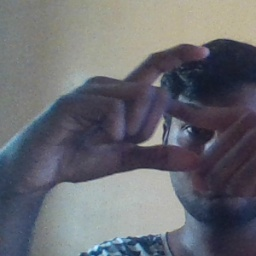E: (112, 35, 234, 174)
